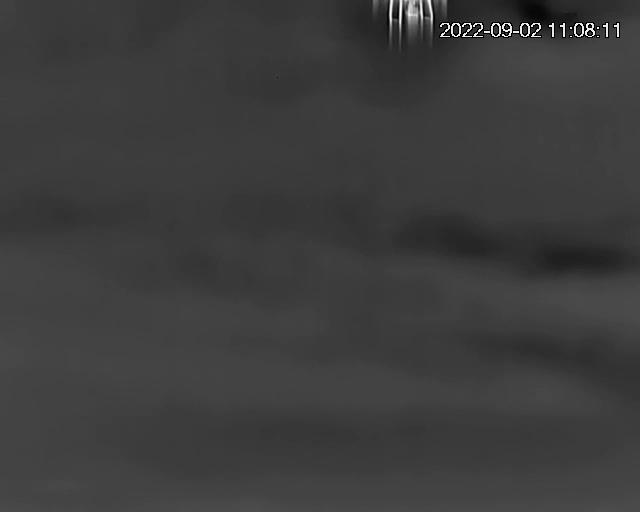DJI-Phantom: (371, 0, 449, 30)
